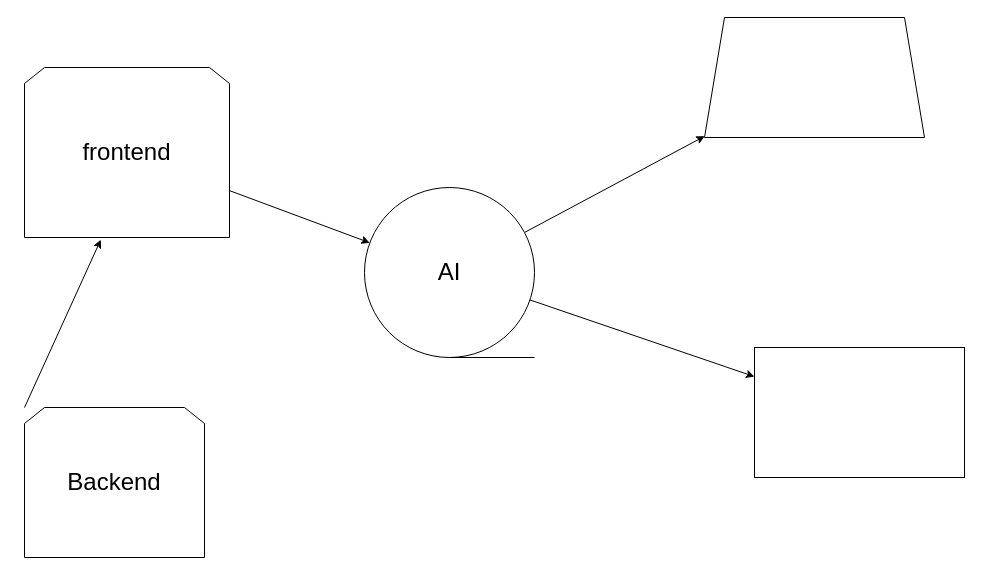
This 982x575 diagram has some shape labels left out. The centre of each missing label's shape, as x and y in pixels:
other all plane: the point at 859,412
Python: the point at 814,77
